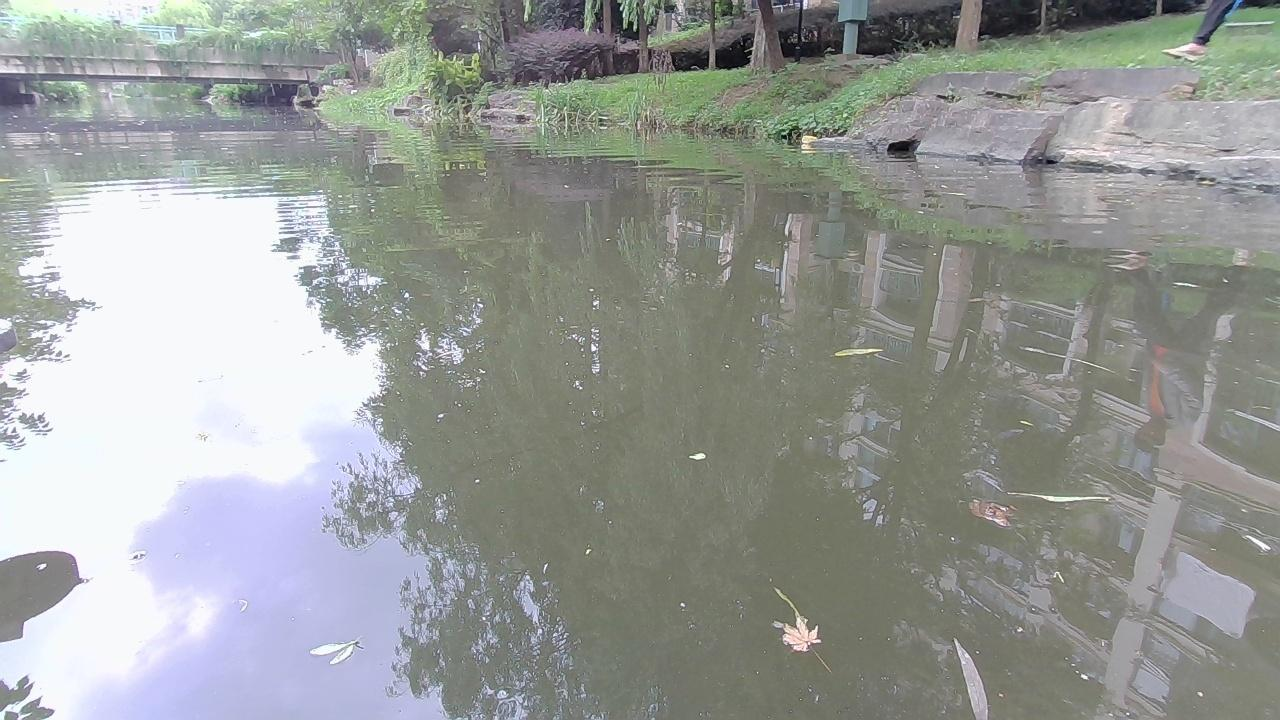bottle: (799, 132, 826, 147)
